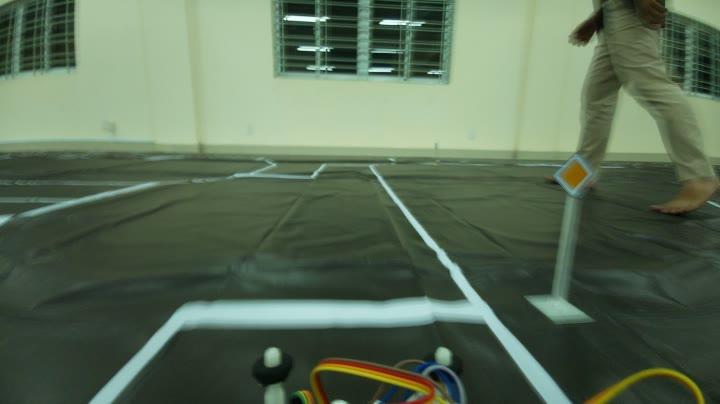priority: (556, 154, 598, 206)
